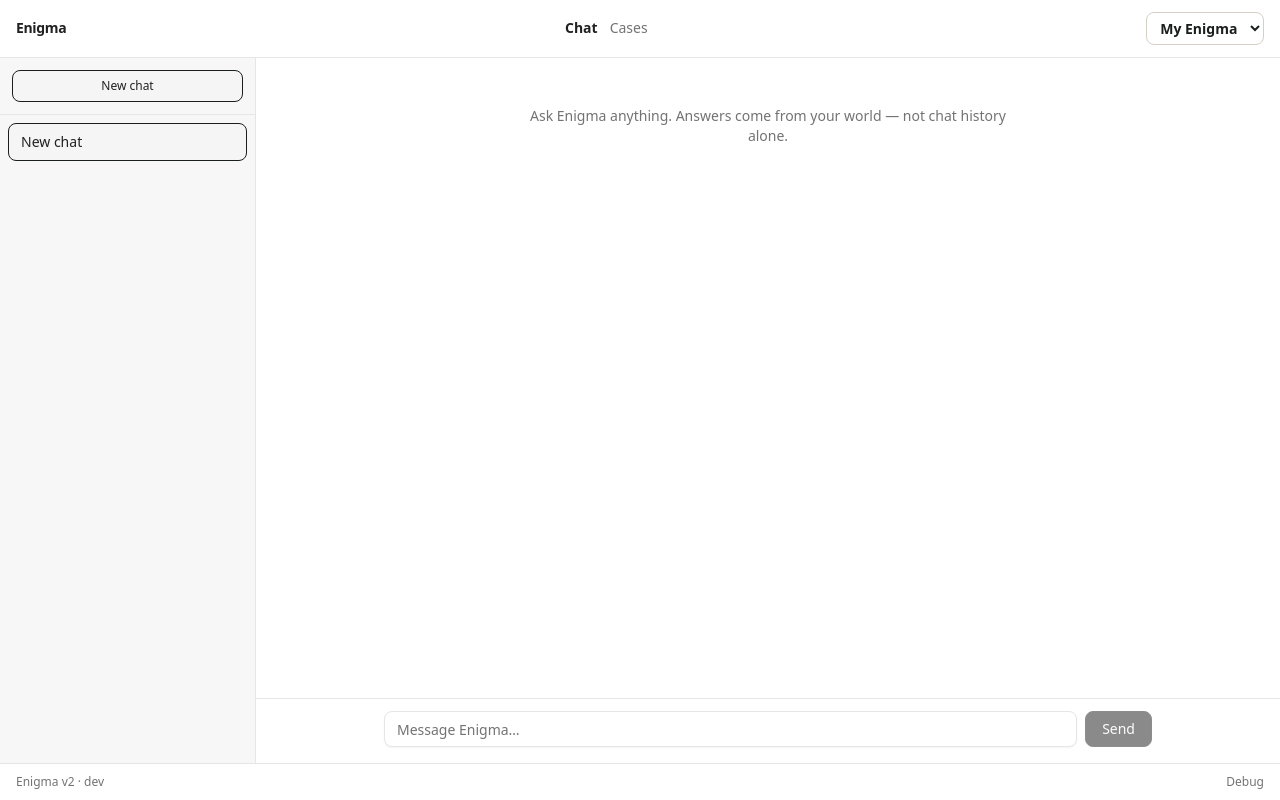
Test: UI2-06 world isolation (v2 shell) › CLOCK_01 — Alex demo chrome does not remain after switch to private
This screenshot has width=1280, height=800.
Select "Alex Lab" in the 1st dropdown with test id "world-switcher" at (1205, 28), box [1146,12,1264,45]
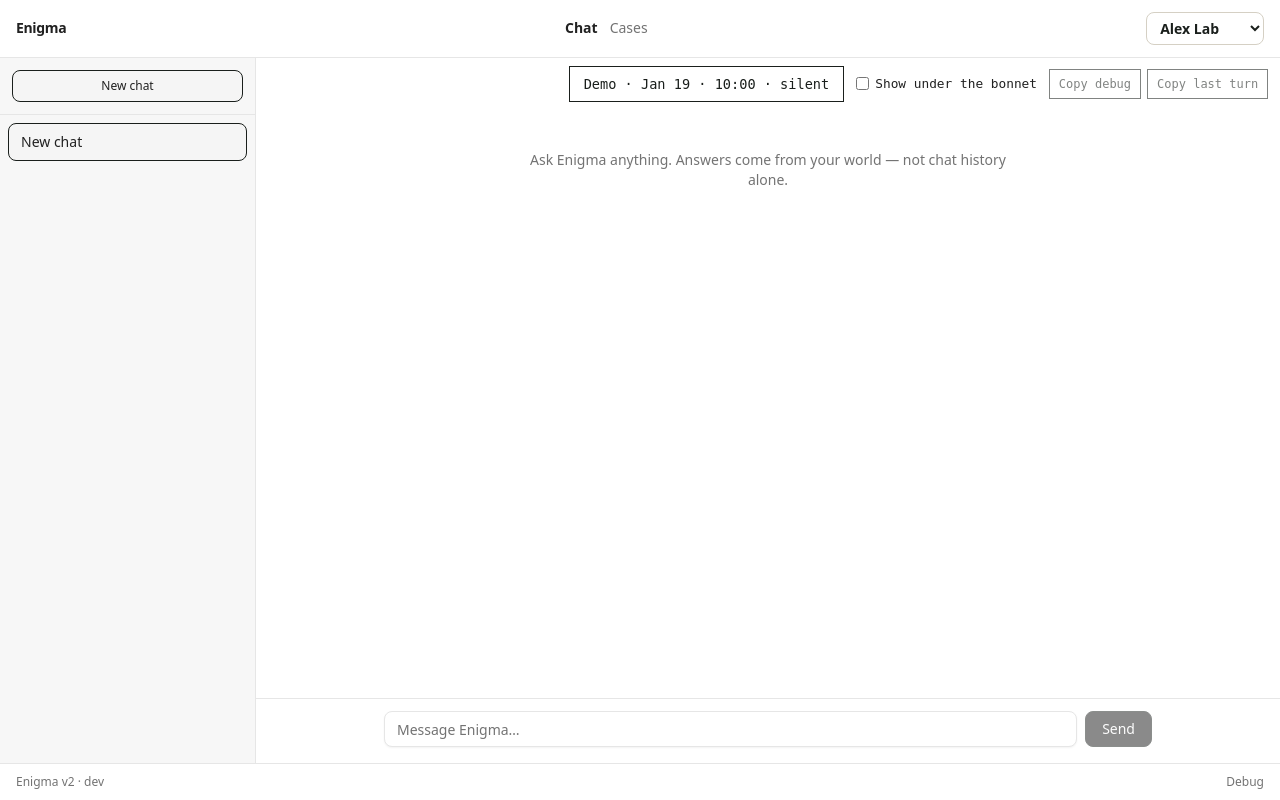
Check: the dropdown with test id "world-switcher" shows "Alex Lab"
Check: the button "Demo · Jan 19 · 10:00 · silent" is shown, box [569,66,844,102]
Select "My Enigma" in the 1st dropdown with test id "world-switcher" at (1205, 28), box [1146,12,1264,45]
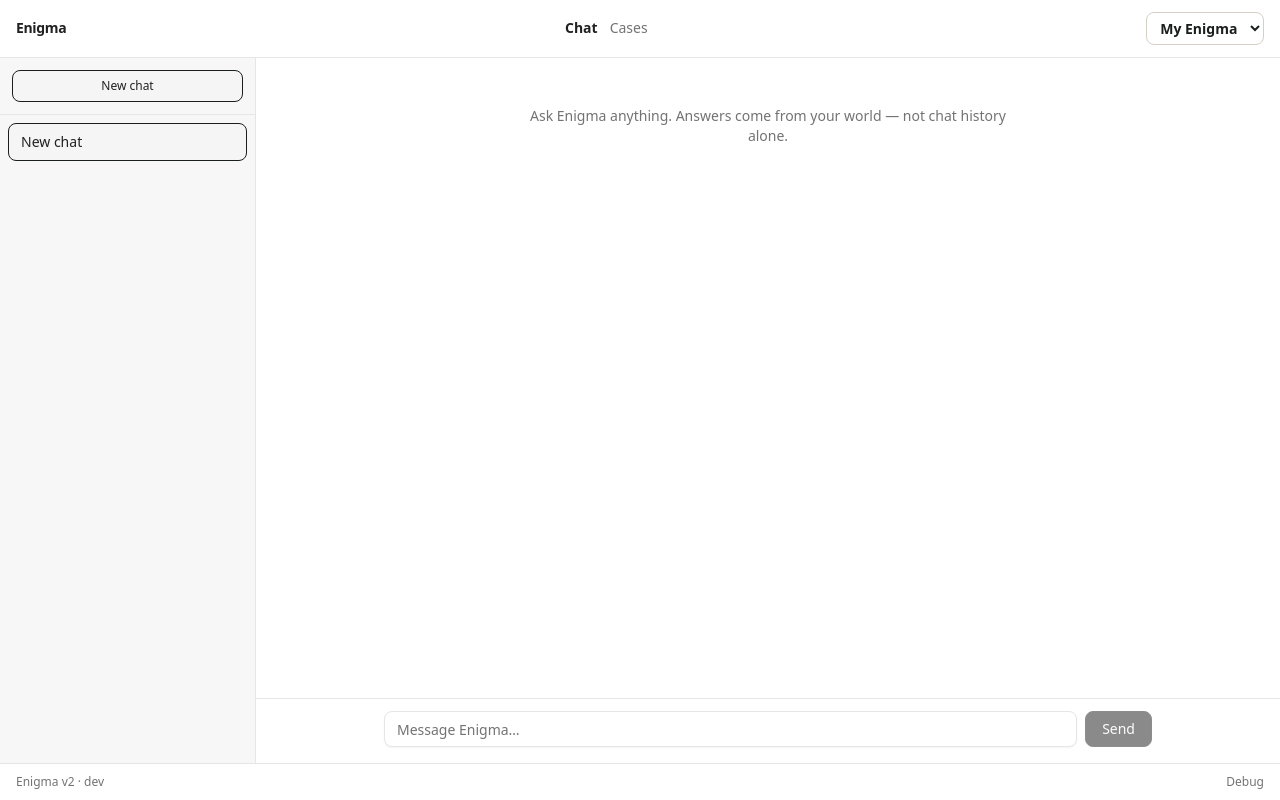
Check: the dropdown with test id "world-switcher" shows "My Enigma", box [1146,12,1264,45]
Check: the button "Demo ·" is gone
